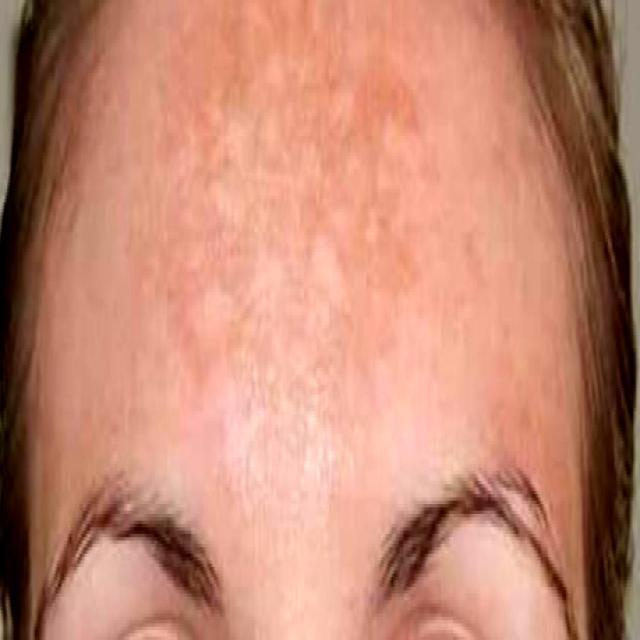Melasma: (57, 0, 577, 540)
